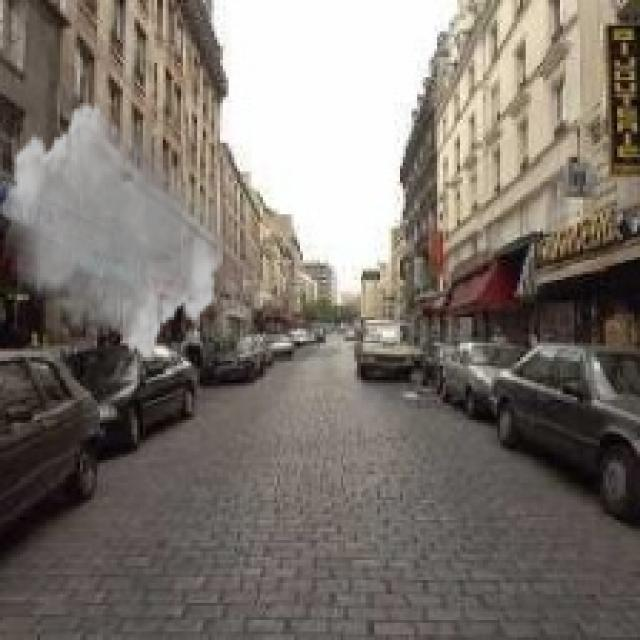Smoke: (0, 100, 229, 357)
